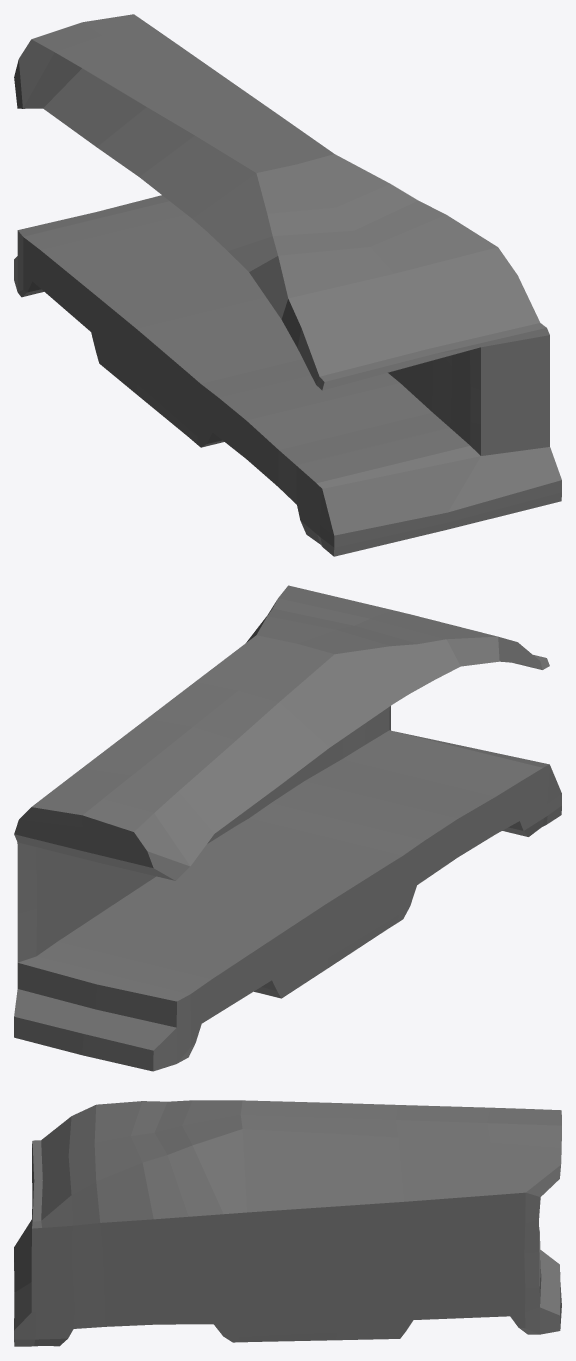
File: TrainCar.fbx
3 renders of one model, top to bottom at view 1: azimuth 30°, elevation 25°; view 2: azimuth 150°, elevation 25°; view 3: azimuth 270°, elevation 25°, orthographic. The views are drawn at different scales.
Parts seen in each view (by area): view 1: retopo_train:Group4832; view 2: retopo_train:Group4832; view 3: retopo_train:Group4832.
Boxes of the visible parts, x1,y1,x2,y2 form: retopo_train:Group4832: [14, 14, 561, 556]; retopo_train:Group4832: [14, 585, 561, 1071]; retopo_train:Group4832: [14, 1100, 561, 1346].
Bounding box in the file's own units: 3.36 × 3.59 × 9.34.
Materials: 1 (1 with a texture image).
